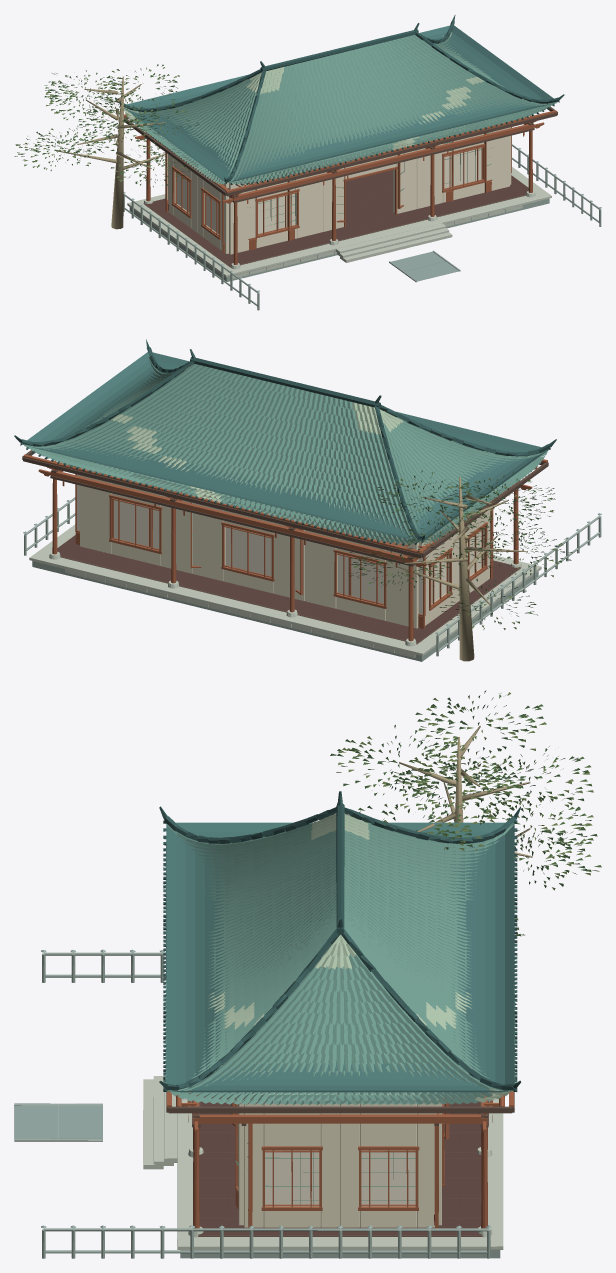
File: tubishanzhuang.glb
3 views of the same model, one above another, from view 1: azimuth 30°, elevation 25°; view 2: azimuth 150°, elevation 25°; view 3: azimuth 270°, elevation 25° (orthographic). The views are drawn at different scales.
Visible parts, largest first — view 1: r15_tubishanzhuang_Sunwen_r18_hill_tile.001, r15_tubishanzhuang_Sunwen_r18_hill_roof.001, r15_tubishanzhuang_Sunwen_r18_hill_plaster.002, r15_tubishanzhuang_Sunwen_r18_hill_wood.001, r15_tubishanzhuang_Sunwen_r18_hill_cutstone.001, Mobile_tubishanzhuang_floorwood, Mobile_tubishanzhuang_plants, r15_tubishanzhuang_Sunwen_r18_hill_darkwood.001, r15_tubishanzhuang_Sunwen_r18_hill_stone.001, r15_tubishanzhuang_Sunwen_r18_hill_tiledark.001, r15_tubishanzhuang_Sunwen_r18_hill_screen.001, r15_tubishanzhuang_Sunwen_r18_hill_tilelight.001 (+2 smaller); view 2: r15_tubishanzhuang_Sunwen_r18_hill_tile.001, r15_tubishanzhuang_Sunwen_r18_hill_roof.001, r15_tubishanzhuang_Sunwen_r18_hill_plaster.002, r15_tubishanzhuang_Sunwen_r18_hill_wood.001, r15_tubishanzhuang_Sunwen_r18_hill_cutstone.001, Mobile_tubishanzhuang_plants, Mobile_tubishanzhuang_floorwood, r15_tubishanzhuang_Sunwen_r18_hill_tiledark.001, r15_tubishanzhuang_Sunwen_r18_hill_darkwood.001, r15_tubishanzhuang_Sunwen_r18_hill_stone.001, r15_tubishanzhuang_Sunwen_r18_hill_screen.002, r15_tubishanzhuang_Sunwen_r18_hill_screen.001 (+1 smaller); view 3: r15_tubishanzhuang_Sunwen_r18_hill_tile.001, r15_tubishanzhuang_Sunwen_r18_hill_roof.001, r15_tubishanzhuang_Sunwen_r18_hill_plaster.002, r15_tubishanzhuang_Sunwen_r18_hill_cutstone.001, Mobile_tubishanzhuang_floorwood, r15_tubishanzhuang_Sunwen_r18_hill_wood.001, Mobile_tubishanzhuang_plants, r15_tubishanzhuang_Sunwen_r18_hill_stone.001, r15_tubishanzhuang_Sunwen_r18_hill_tiledark.001, r15_tubishanzhuang_Sunwen_r18_hill_screen.001, r15_tubishanzhuang_Sunwen_r18_hill_darkwood.001, r15_tubishanzhuang_Sunwen_r18_hill_tilelight.001 (+1 smaller).
Boxes of the visible parts, box(x1,y1,x2,y2) form: r15_tubishanzhuang_Sunwen_r18_hill_tile.001: box(124, 35, 557, 184); r15_tubishanzhuang_Sunwen_r18_hill_roof.001: box(124, 25, 557, 182); r15_tubishanzhuang_Sunwen_r18_hill_plaster.002: box(168, 118, 511, 254); r15_tubishanzhuang_Sunwen_r18_hill_wood.001: box(124, 110, 557, 264); r15_tubishanzhuang_Sunwen_r18_hill_cutstone.001: box(127, 167, 551, 278); Mobile_tubishanzhuang_floorwood: box(145, 170, 528, 266); Mobile_tubishanzhuang_plants: box(14, 64, 198, 229); r15_tubishanzhuang_Sunwen_r18_hill_darkwood.001: box(124, 106, 557, 267); r15_tubishanzhuang_Sunwen_r18_hill_stone.001: box(123, 144, 601, 310); r15_tubishanzhuang_Sunwen_r18_hill_tiledark.001: box(115, 15, 564, 185); r15_tubishanzhuang_Sunwen_r18_hill_screen.001: box(177, 148, 481, 233); r15_tubishanzhuang_Sunwen_r18_hill_tilelight.001: box(124, 32, 484, 150); r15_tubishanzhuang_Sunwen_r18_hill_tile.001: box(22, 355, 548, 543); r15_tubishanzhuang_Sunwen_r18_hill_roof.001: box(22, 352, 548, 541); r15_tubishanzhuang_Sunwen_r18_hill_plaster.002: box(80, 464, 491, 628); r15_tubishanzhuang_Sunwen_r18_hill_wood.001: box(23, 454, 547, 641); r15_tubishanzhuang_Sunwen_r18_hill_cutstone.001: box(29, 524, 541, 657); Mobile_tubishanzhuang_plants: box(348, 470, 572, 661); Mobile_tubishanzhuang_floorwood: box(57, 535, 520, 642); r15_tubishanzhuang_Sunwen_r18_hill_tiledark.001: box(14, 339, 556, 545); r15_tubishanzhuang_Sunwen_r18_hill_darkwood.001: box(22, 450, 548, 644); r15_tubishanzhuang_Sunwen_r18_hill_stone.001: box(24, 497, 601, 661); r15_tubishanzhuang_Sunwen_r18_hill_screen.002: box(77, 474, 422, 614); r15_tubishanzhuang_Sunwen_r18_hill_screen.001: box(225, 527, 481, 603); r15_tubishanzhuang_Sunwen_r18_hill_tile.001: box(165, 818, 515, 1105); r15_tubishanzhuang_Sunwen_r18_hill_roof.001: box(166, 822, 514, 1092); r15_tubishanzhuang_Sunwen_r18_hill_plaster.002: box(238, 1092, 441, 1227); r15_tubishanzhuang_Sunwen_r18_hill_cutstone.001: box(143, 1075, 503, 1249); Mobile_tubishanzhuang_floorwood: box(198, 1095, 482, 1235); r15_tubishanzhuang_Sunwen_r18_hill_wood.001: box(167, 1091, 513, 1228); Mobile_tubishanzhuang_plants: box(330, 690, 601, 936); r15_tubishanzhuang_Sunwen_r18_hill_stone.001: box(14, 952, 500, 1258); r15_tubishanzhuang_Sunwen_r18_hill_tiledark.001: box(159, 791, 520, 1091); r15_tubishanzhuang_Sunwen_r18_hill_screen.001: box(265, 1150, 415, 1204); r15_tubishanzhuang_Sunwen_r18_hill_darkwood.001: box(166, 845, 514, 1236); r15_tubishanzhuang_Sunwen_r18_hill_tilelight.001: box(165, 814, 514, 1102).
Size of the model in its own units: 28.33 by 10.2 by 19.83.
